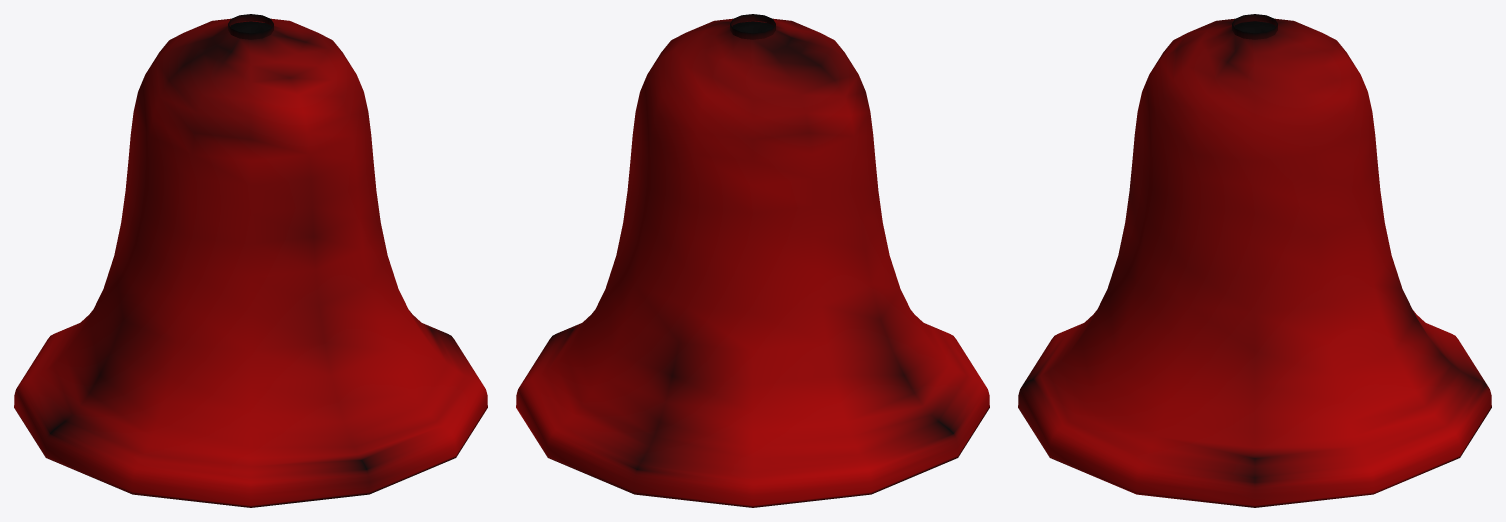
File: Bell_export.obj
3 renders of one model, left to right at view 1: azimuth 30°, elevation 25°; view 2: azimuth 150°, elevation 25°; view 3: azimuth 270°, elevation 25°, orthographic.
Visible parts, largest first — view 1: Bell; view 2: Bell; view 3: Bell.
Boxes of the visible parts, <box> form: Bell: <box>14,14,487,507</box>; Bell: <box>516,14,989,507</box>; Bell: <box>1018,14,1491,507</box>.
Bounding box in the file's own units: 3.2 × 3.18 × 3.2.
